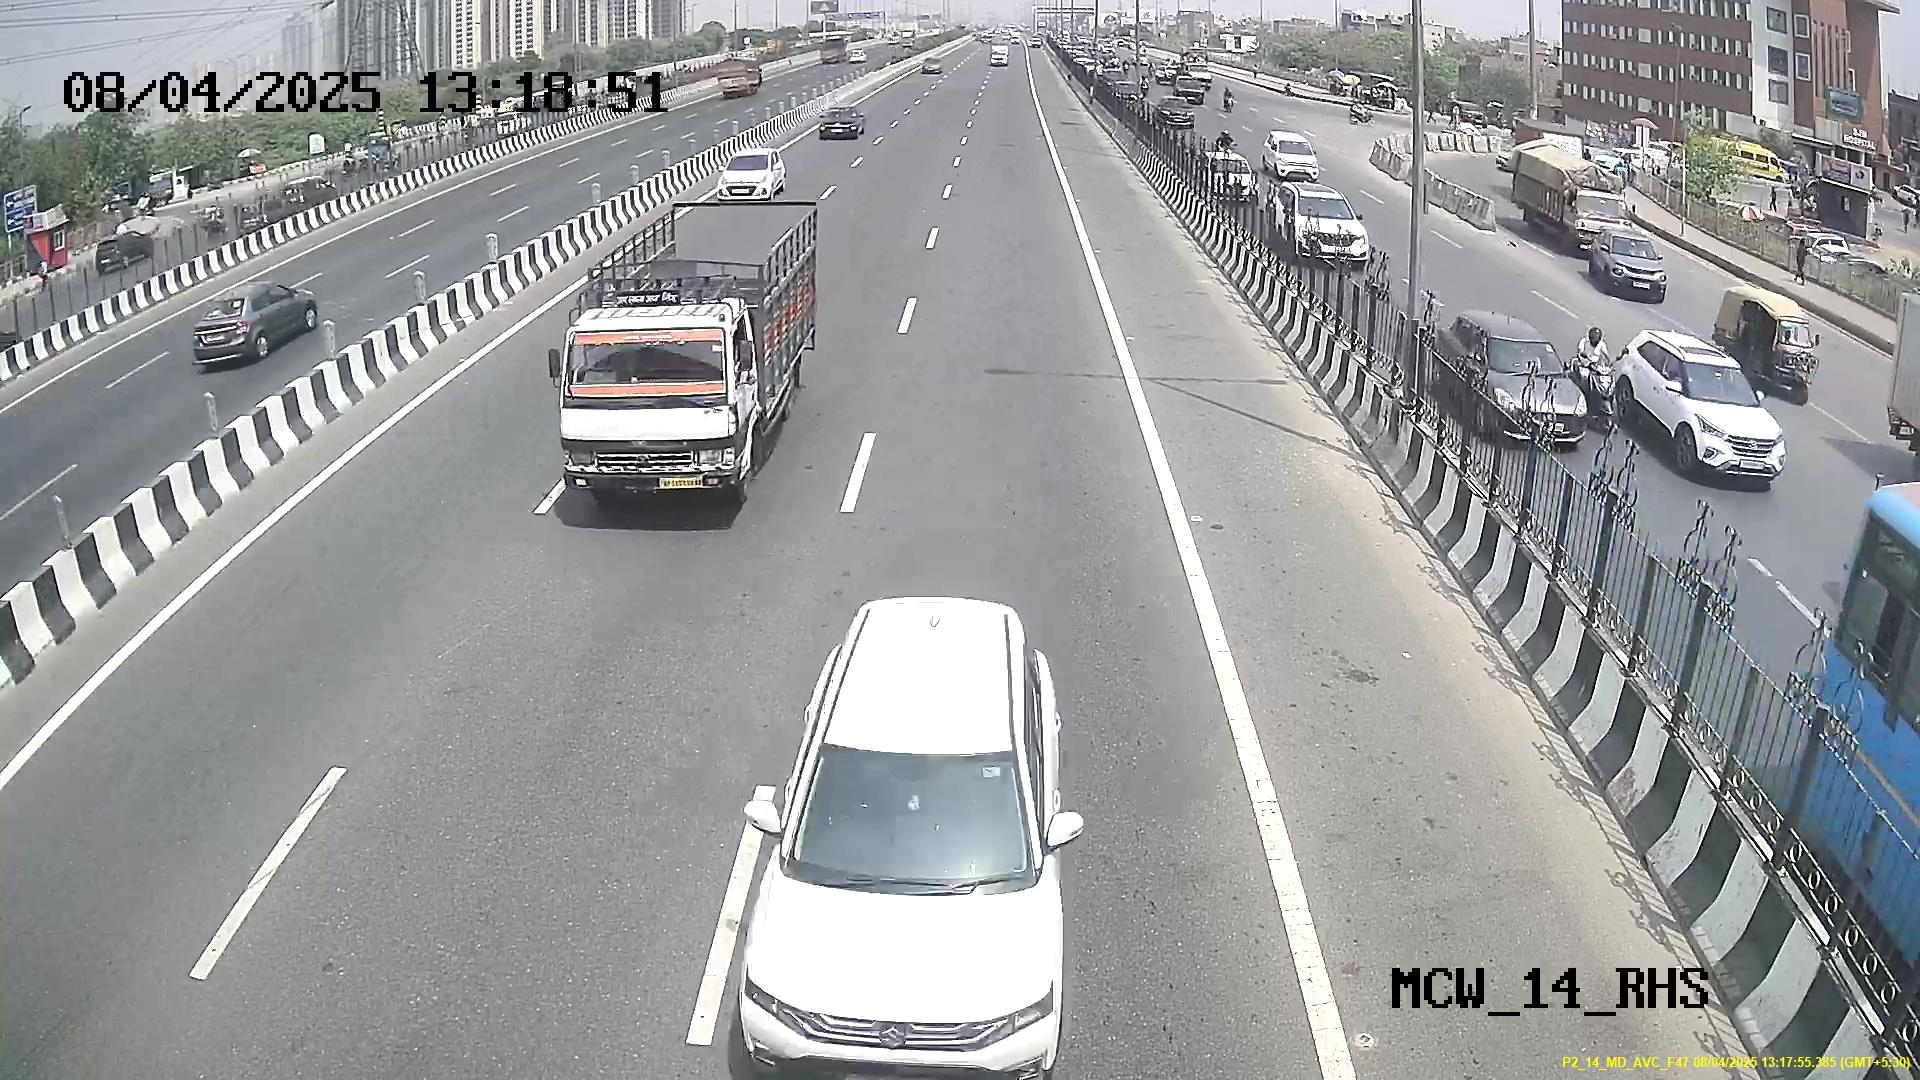car: (731, 712, 1069, 1079), (707, 149, 787, 204)
lcv: (559, 305, 760, 504)
